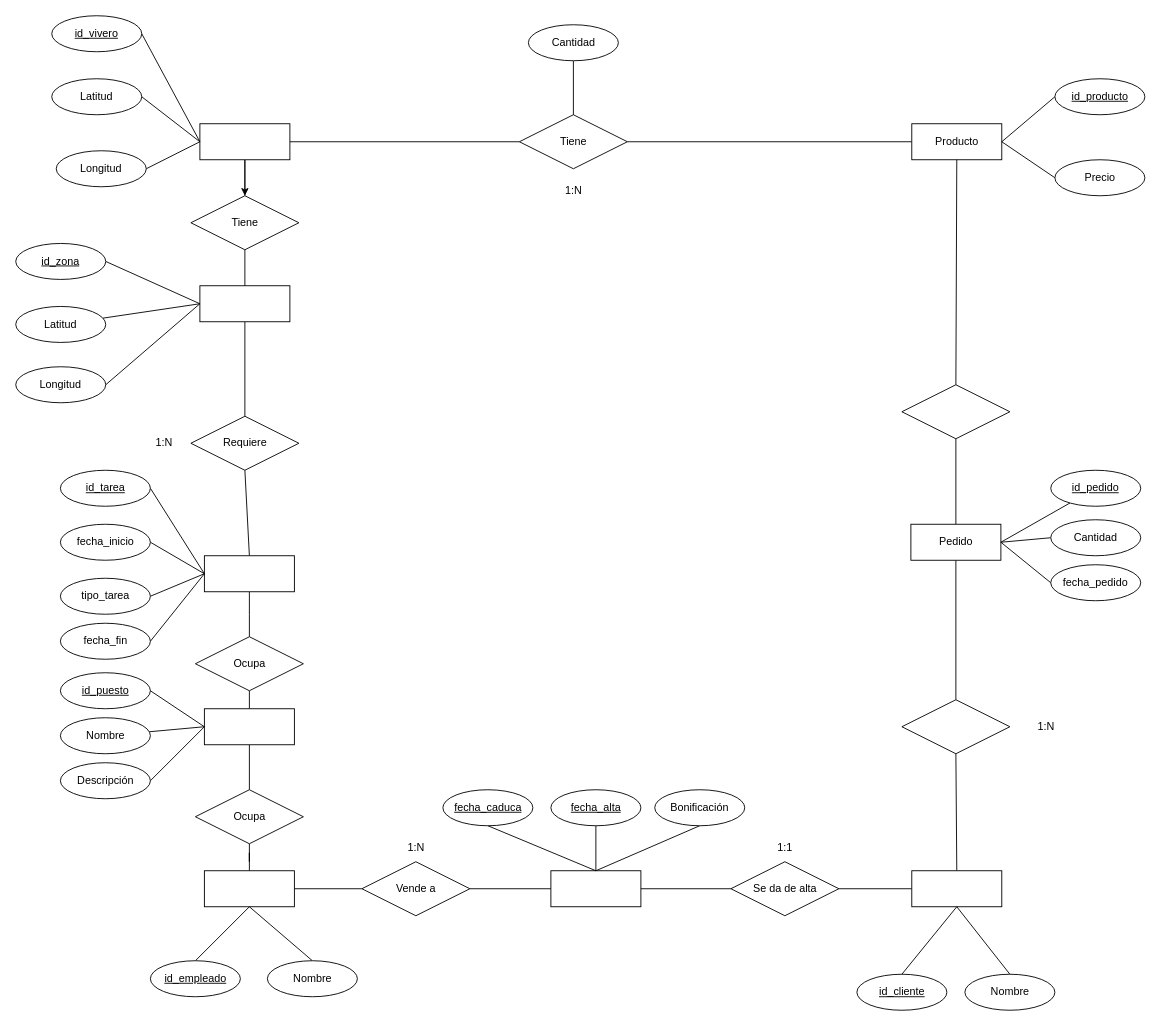
Some shapes in this 1161 by 1026 pixel diagram are drawn without their labels. Each missing label, with the box of its shape:
Cliente: (911, 870, 1002, 907)
Empleado: (203, 870, 294, 907)
Hace: (901, 699, 1010, 754)
Hace pedidos: (901, 384, 1010, 439)
Puesto: (203, 708, 294, 745)
Tajinaste_Plus: (550, 870, 641, 907)
Tarea: (203, 555, 294, 592)
Vivero: (199, 123, 290, 160)
Zona: (199, 285, 290, 322)
